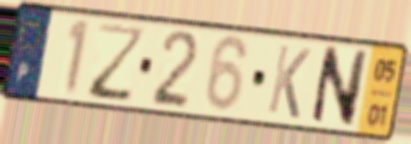1: (62, 16, 92, 100)
2: (150, 27, 202, 112)
6: (201, 33, 253, 118)
K: (264, 41, 314, 122)
N: (307, 43, 371, 130)
Z: (87, 20, 149, 106)
